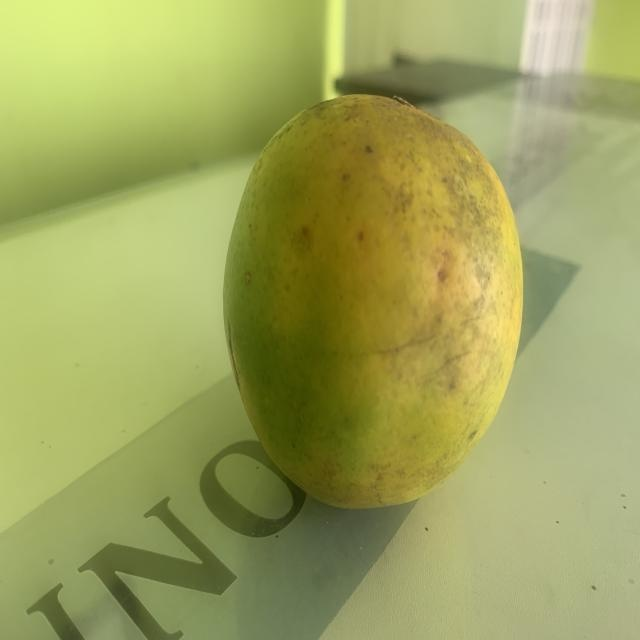agrume: (216, 68, 528, 516)
